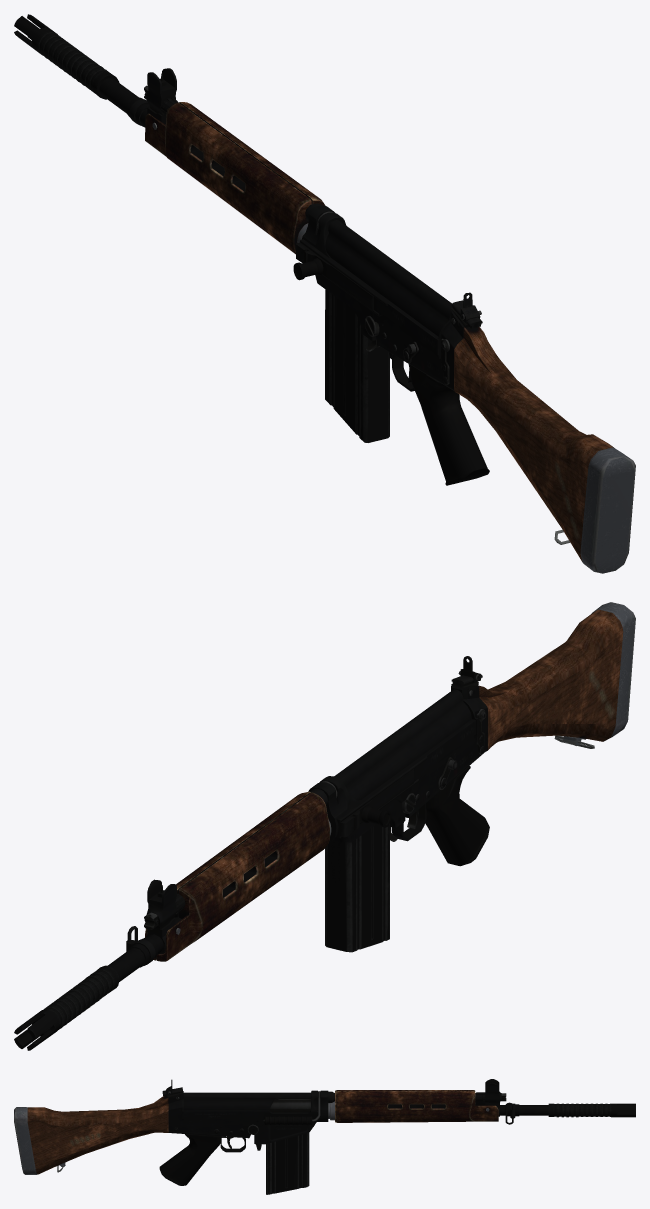
Rendered from slr.glb.
3 views of the same model, one above another, from view 1: azimuth 30°, elevation 25°; view 2: azimuth 150°, elevation 25°; view 3: azimuth 270°, elevation 25° (orthographic). The views are drawn at different scales.
Size of the model in its own units: 0.0873 by 0.2164 by 1.09.
5 materials, 5 textured.
